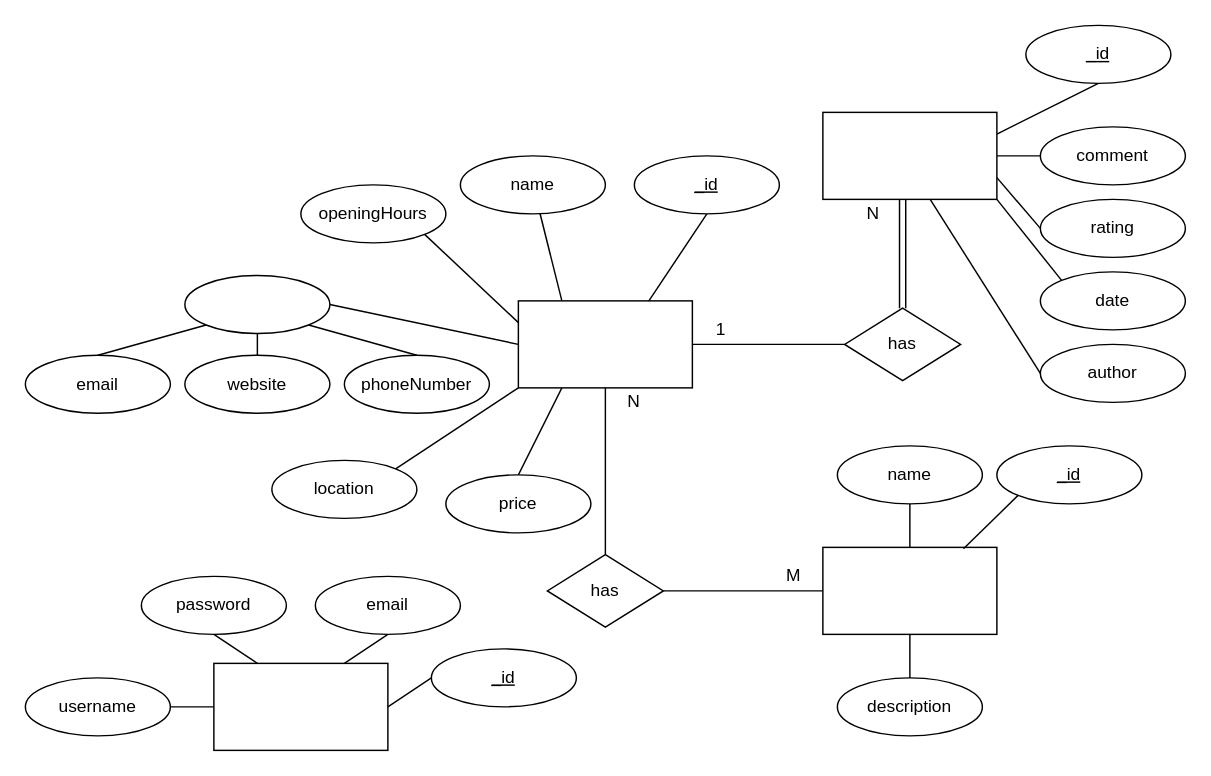
The diagram is 1211 pixels wide and 776 high, and some of its shapes have lost their labels. The centre of each missing label's shape, as x and y in pixels:
"Cafe" belongs at (x=604, y=343).
"Category" belongs at (x=909, y=590).
"contact" belongs at (x=256, y=304).
"Review" belongs at (x=909, y=155).
"User" belongs at (x=300, y=706).
